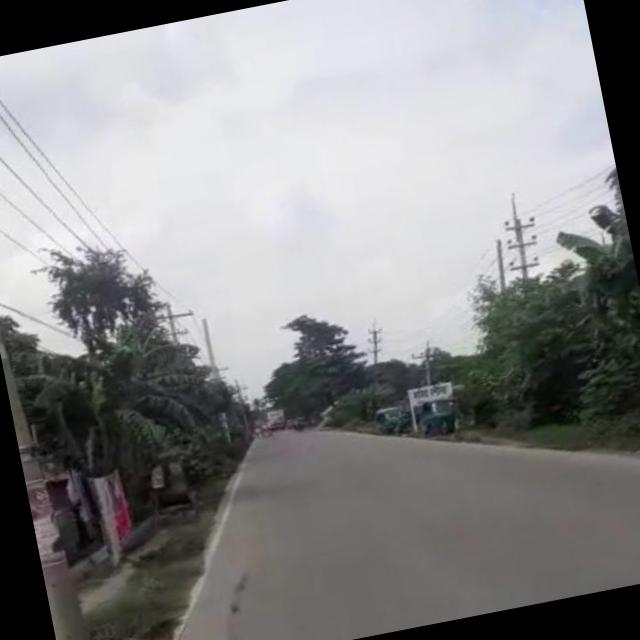motorcycle: (416, 392, 459, 438), (365, 401, 402, 434)
